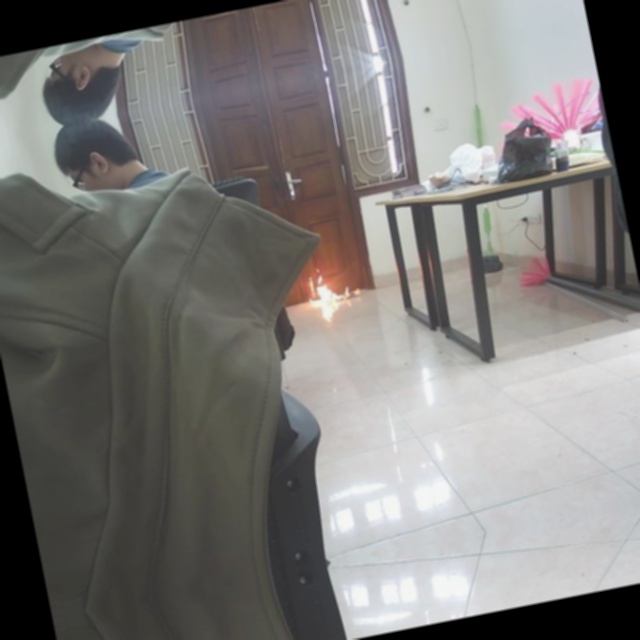fire: (291, 253, 368, 341)
